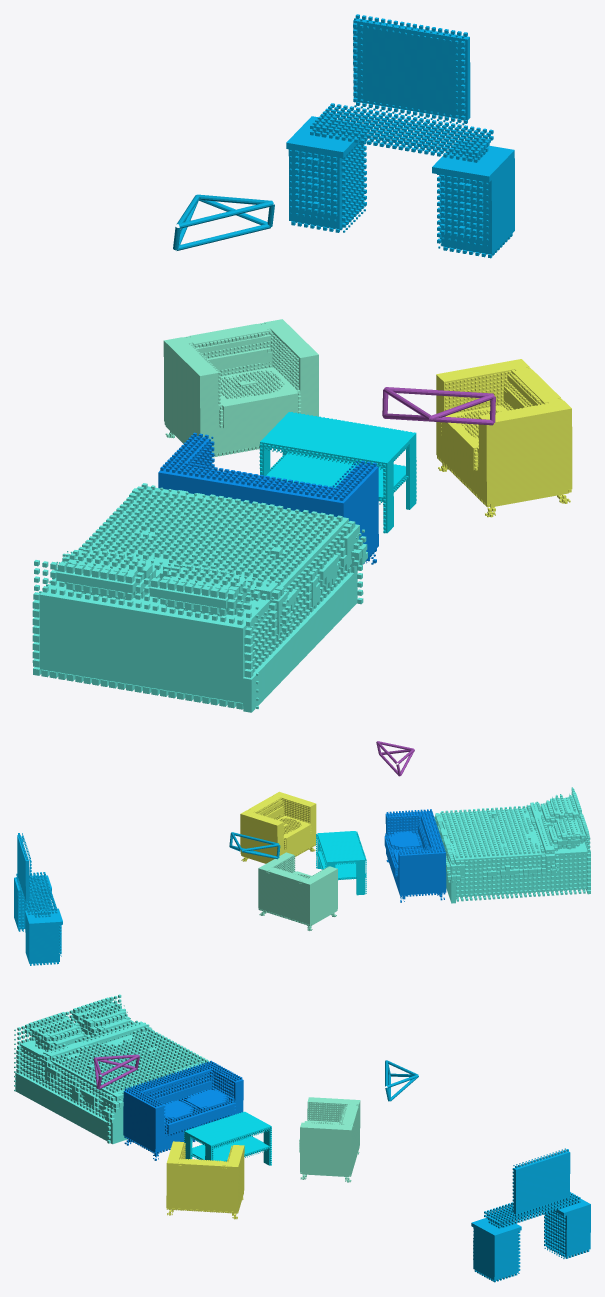
3 renders of one model, top to bottom at view 1: azimuth 30°, elevation 25°; view 2: azimuth 150°, elevation 25°; view 3: azimuth 270°, elevation 25°, orthographic. The views are drawn at different scales.
Parts seen in each view (by area): view 1: Node; view 2: Node; view 3: Node.
Boxes of the visible parts, bbox=[...] form: Node: bbox=[32, 14, 572, 712]; Node: bbox=[14, 741, 590, 965]; Node: bbox=[14, 994, 590, 1282].
Bounding box in the file's own units: 6.95 × 1.59 × 7.6.
